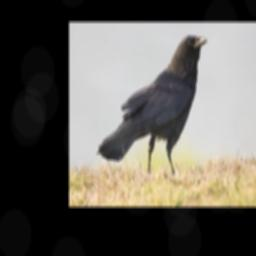Crow: (97, 34, 209, 175)
